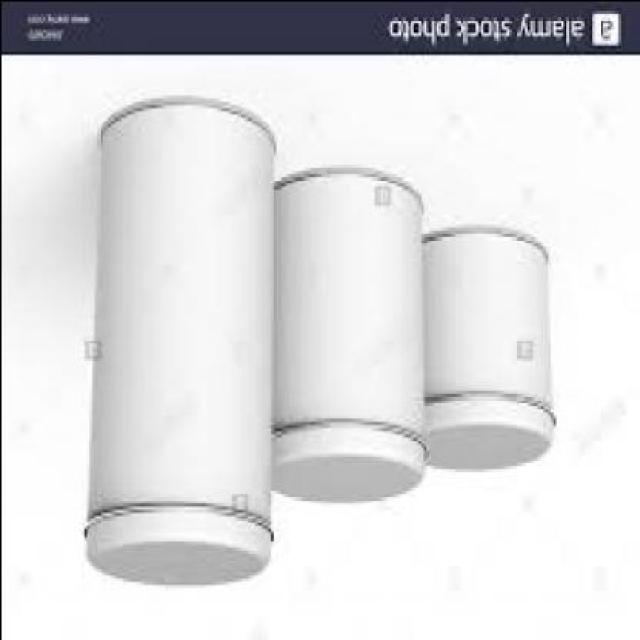METAL: (85, 98, 280, 590), (272, 173, 430, 502), (425, 226, 557, 474)
